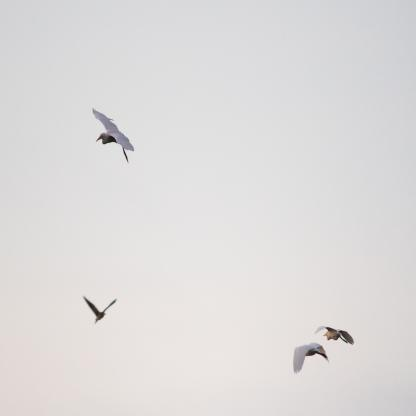bird: (93, 108, 134, 164), (293, 342, 330, 375), (83, 296, 117, 325), (314, 326, 354, 345)
